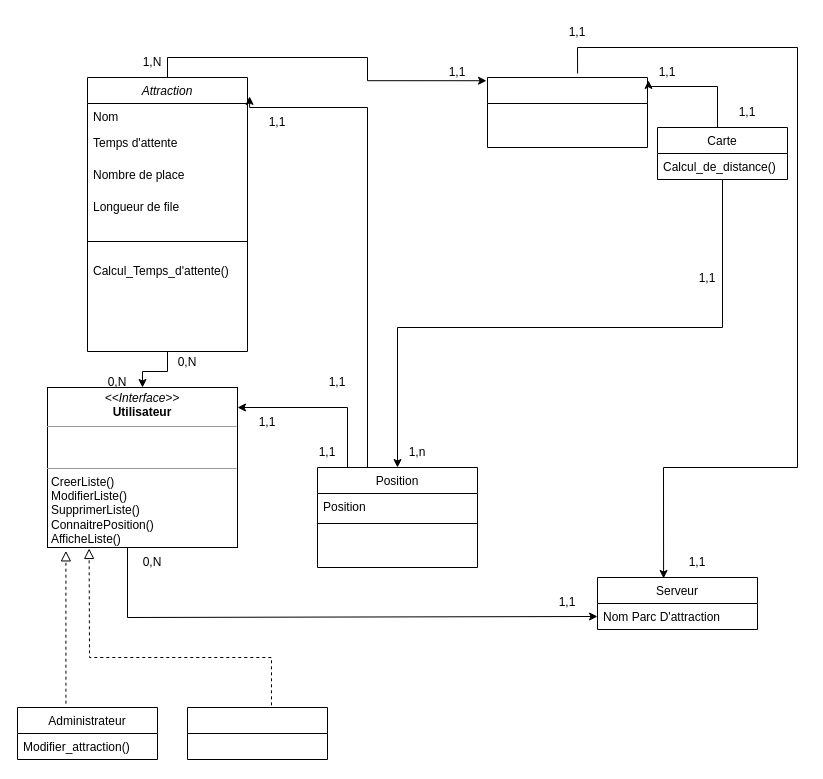
The diagram is 823 pixels wide and 779 high, and some of its shapes have lost their labels. The shapes that lost their labels are listed below. From the top down, each one's centre as x and y in pixels, then its label:
the point at 567,112: Liste d'attraction
the point at 257,733: Visiteur
